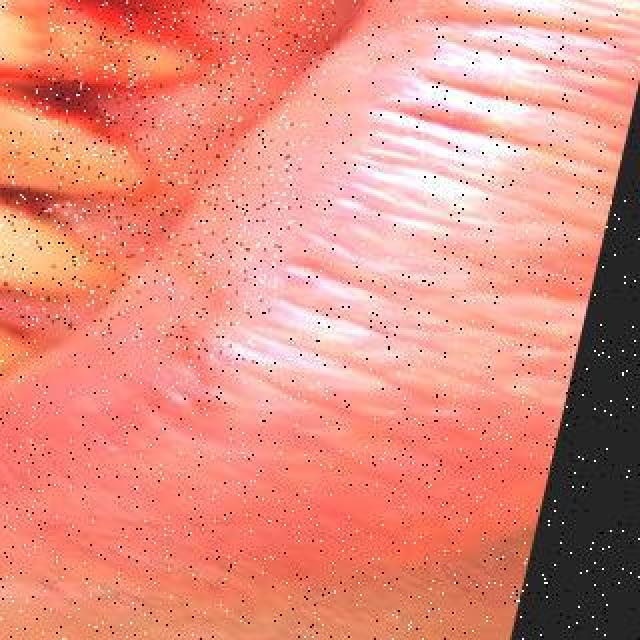maligned: (0, 70, 156, 226), (0, 146, 80, 292)
